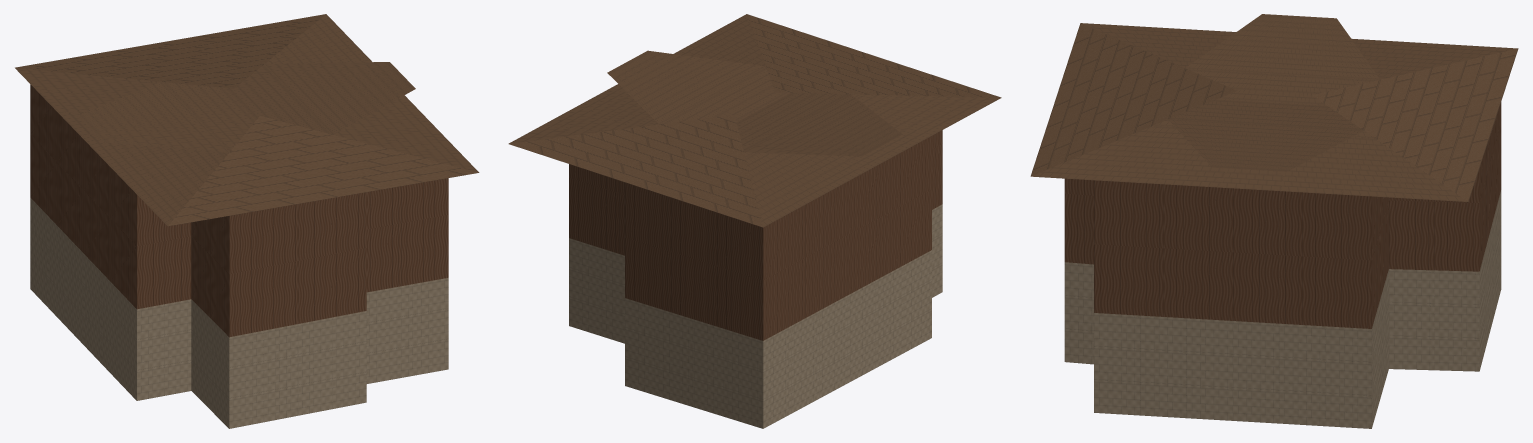
Rendered from bld_c33_-37_442.gltf.
3 views of the same model, side by side, from view 1: azimuth 30°, elevation 25°; view 2: azimuth 150°, elevation 25°; view 3: azimuth 270°, elevation 25° (orthographic). The views are drawn at different scales.
Visible parts, largest first — view 1: bld_c33_-37_442; view 2: bld_c33_-37_442; view 3: bld_c33_-37_442.
Part boxes in pixels (bbox=[...]): bld_c33_-37_442: bbox=[15, 14, 479, 428]; bld_c33_-37_442: bbox=[508, 14, 1001, 428]; bld_c33_-37_442: bbox=[1030, 14, 1518, 428].
Size of the model in its own units: 19.6 by 13.1 by 22.57.
3 materials, 3 textured.
